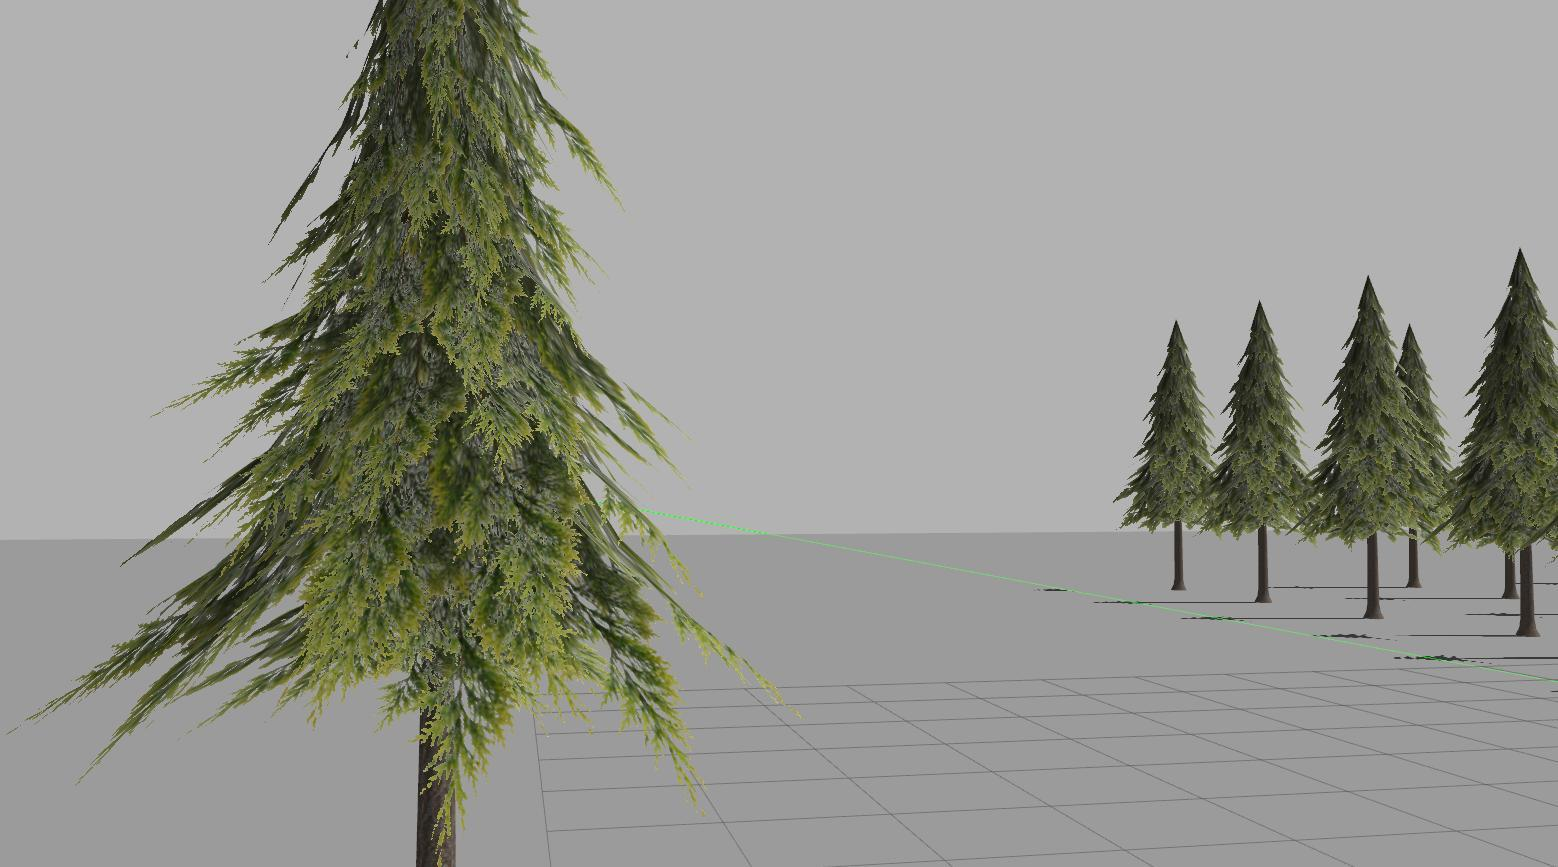tree_gazebo: (43, 0, 748, 863), (1445, 253, 1558, 639), (1300, 277, 1421, 620), (1202, 304, 1308, 601), (1117, 322, 1211, 588), (1397, 326, 1448, 586)
